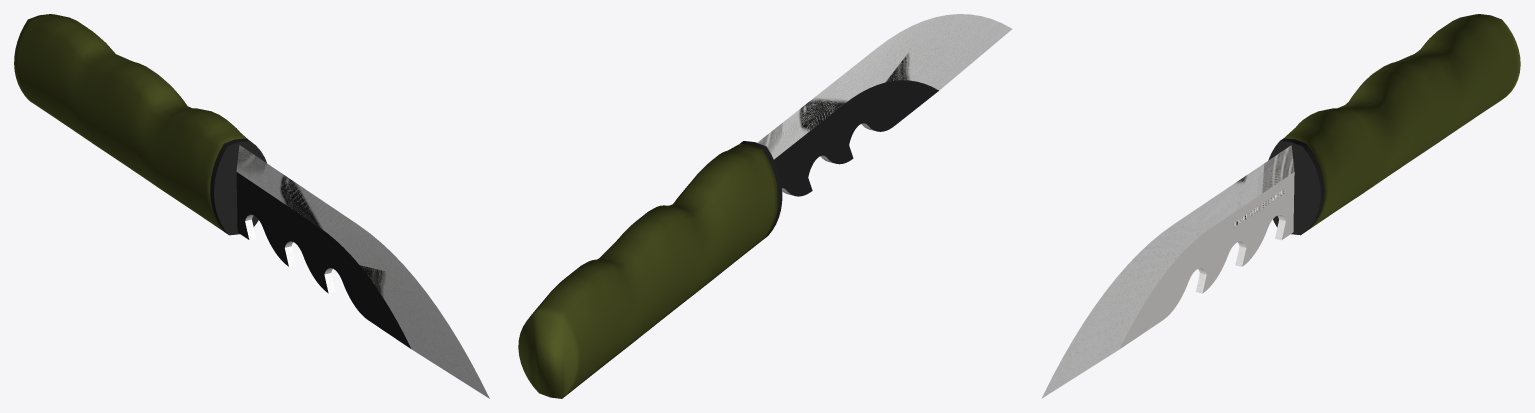
Rendered from model_align.obj.
3 renders of one model, left to right at view 1: azimuth 30°, elevation 25°; view 2: azimuth 150°, elevation 25°; view 3: azimuth 330°, elevation 25°, orthographic. The views are drawn at different scales.
Visible parts, largest first — view 1: mesh5_mesh5-geometry, mesh2_mesh2-geometry, mesh1_mesh1-geometry; view 2: mesh5_mesh5-geometry, mesh2_mesh2-geometry, mesh1_mesh1-geometry; view 3: mesh5_mesh5-geometry, mesh2_mesh2-geometry, mesh1_mesh1-geometry.
Boxes of the visible parts, left/top/right/bottom form: mesh5_mesh5-geometry: left=14, top=14, right=247, bottom=232; mesh2_mesh2-geometry: left=236, top=145, right=489, bottom=398; mesh1_mesh1-geometry: left=210, top=138, right=266, bottom=235; mesh5_mesh5-geometry: left=518, top=144, right=778, bottom=398; mesh2_mesh2-geometry: left=757, top=14, right=1011, bottom=196; mesh1_mesh1-geometry: left=740, top=141, right=782, bottom=238; mesh5_mesh5-geometry: left=1284, top=14, right=1520, bottom=231; mesh2_mesh2-geometry: left=1041, top=145, right=1294, bottom=398; mesh1_mesh1-geometry: left=1268, top=138, right=1324, bottom=235.
Size of the model in its own units: 0.0158 by 0.0287 by 0.2194.
